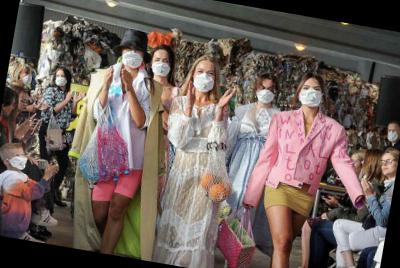with_mask: (191, 66, 218, 95), (297, 81, 324, 110), (119, 45, 146, 71), (149, 55, 173, 79), (254, 82, 276, 107), (8, 150, 29, 173), (384, 127, 400, 144), (54, 73, 69, 90), (23, 71, 33, 87)
without_mask: (379, 156, 397, 178), (18, 96, 31, 115), (5, 100, 17, 120)
